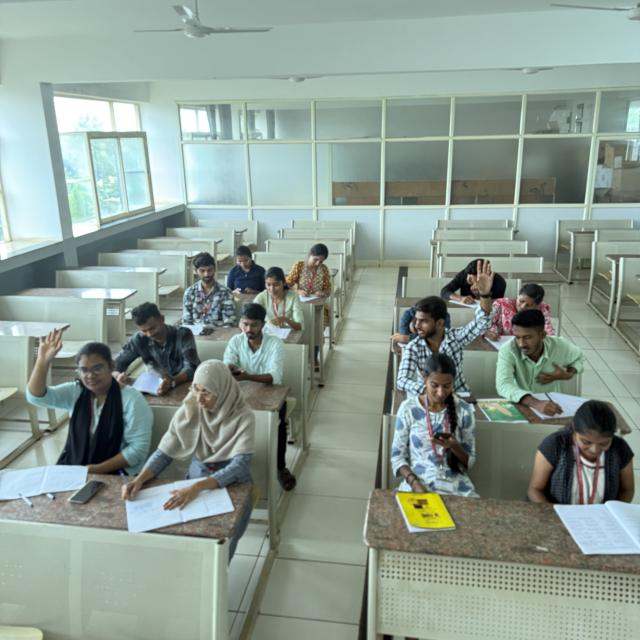Hand Rising: (26, 332, 140, 456), (386, 257, 495, 386)
Reading: (533, 399, 640, 535), (128, 300, 185, 395), (248, 268, 300, 340)
Using Phone: (396, 355, 475, 480), (226, 302, 284, 388), (223, 243, 264, 298)
Writing: (115, 358, 267, 529), (498, 312, 576, 414), (487, 283, 546, 349), (290, 242, 336, 302)
